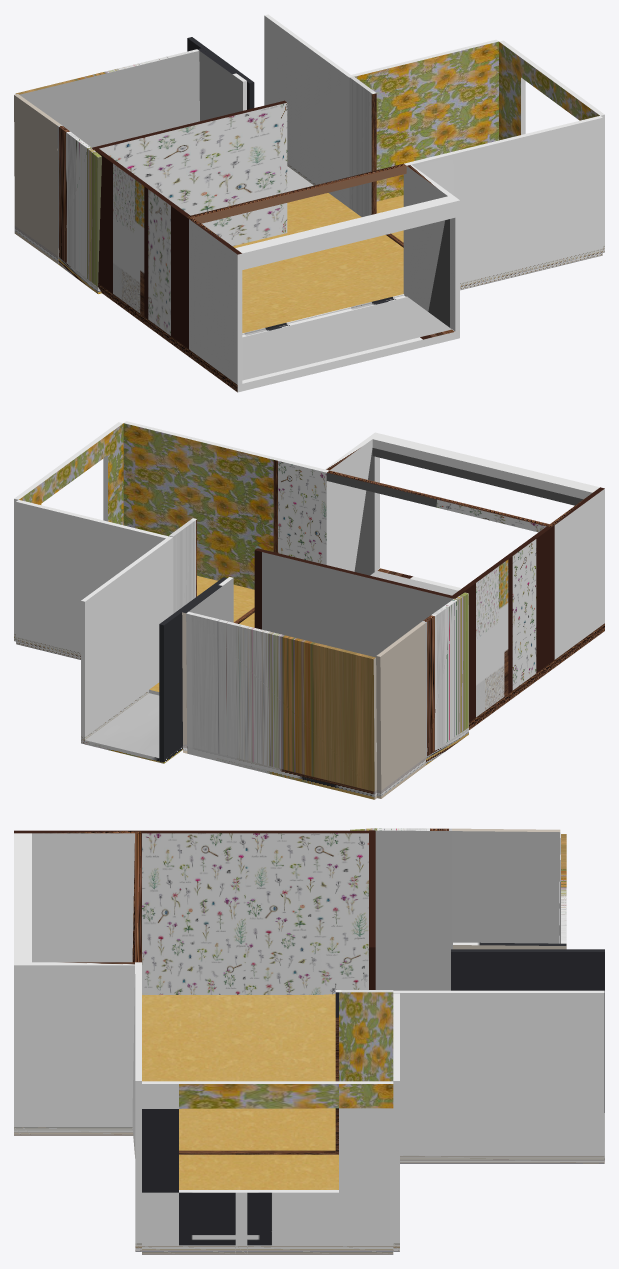
Rendered from Room.fbx.
3 renders of one model, top to bottom at view 1: azimuth 30°, elevation 25°; view 2: azimuth 150°, elevation 25°; view 3: azimuth 270°, elevation 25°, orthographic. The views are drawn at different scales.
Parts seen in each view (by area): view 1: polySurface50; view 2: polySurface50; view 3: polySurface50.
Part boxes in pixels (x1=…): polySurface50: x1=14, y1=14, x2=604, y2=392; polySurface50: x1=14, y1=421, x2=604, y2=799; polySurface50: x1=14, y1=828, x2=604, y2=1254.
Bounding box in the file's own units: 113 × 35.69 × 110.
